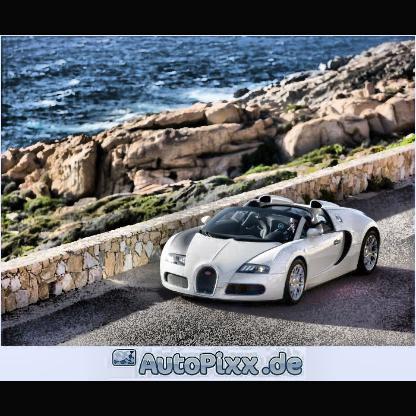Bugatti Veyron 16-4 Convertible 2009: (161, 195, 382, 304)
